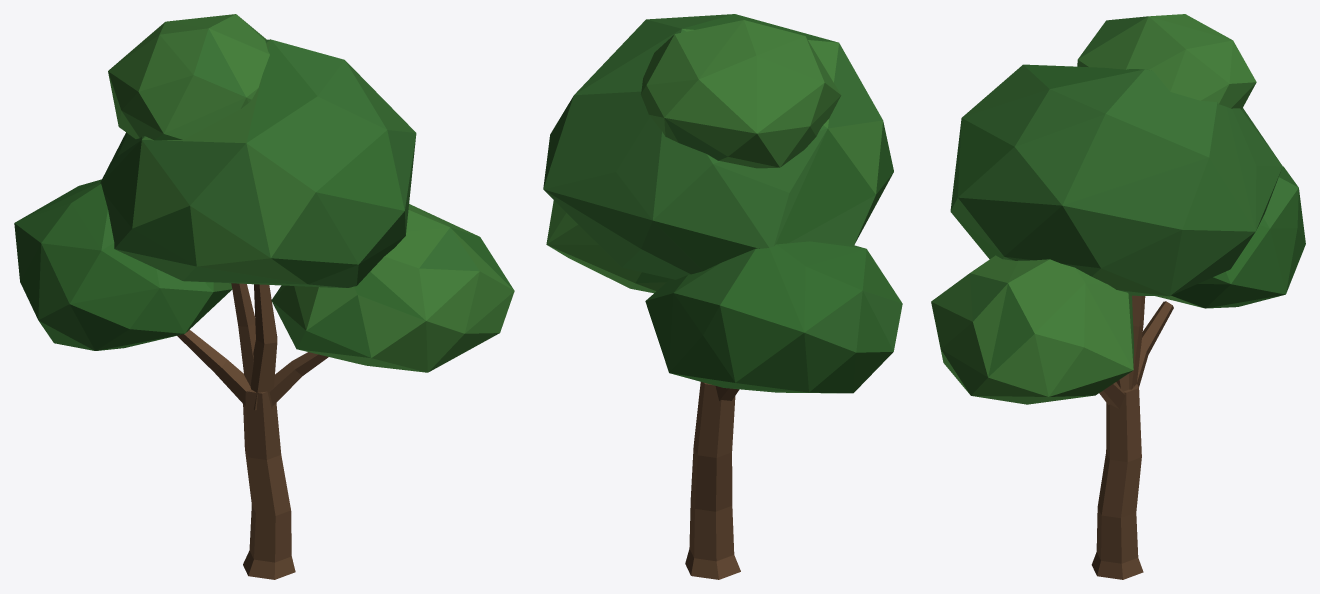
File: arbol_platano_c.glb
The picture shows the model from 3 angles, left to right: view 1: azimuth 30°, elevation 25°; view 2: azimuth 150°, elevation 25°; view 3: azimuth 270°, elevation 25°; orthographic projection. The views are drawn at different scales.
Visible parts, largest first — view 1: arbol_platano_c_copa, arbol_platano_c_tronco; view 2: arbol_platano_c_copa, arbol_platano_c_tronco; view 3: arbol_platano_c_copa, arbol_platano_c_tronco.
Boxes of the visible parts, <box> form: arbol_platano_c_copa: <box>14,14,514,372</box>; arbol_platano_c_tronco: <box>177,283,328,579</box>; arbol_platano_c_copa: <box>543,14,902,393</box>; arbol_platano_c_tronco: <box>685,382,740,579</box>; arbol_platano_c_copa: <box>931,14,1305,404</box>; arbol_platano_c_tronco: <box>1091,295,1173,579</box>.
Size of what is drawn, in the model's own units: 6 by 8 by 5.12.
